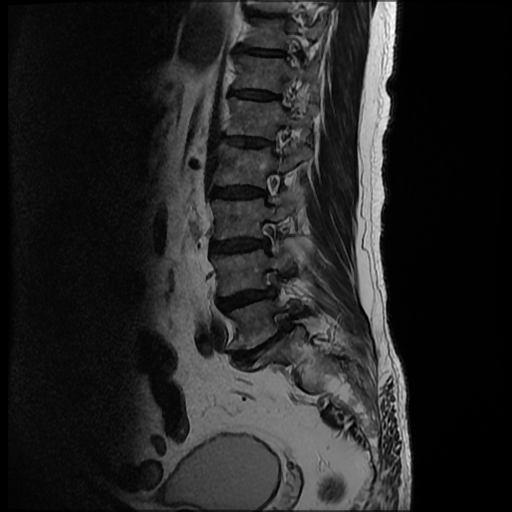RFS0: (251, 212, 285, 261), (254, 165, 285, 211)
